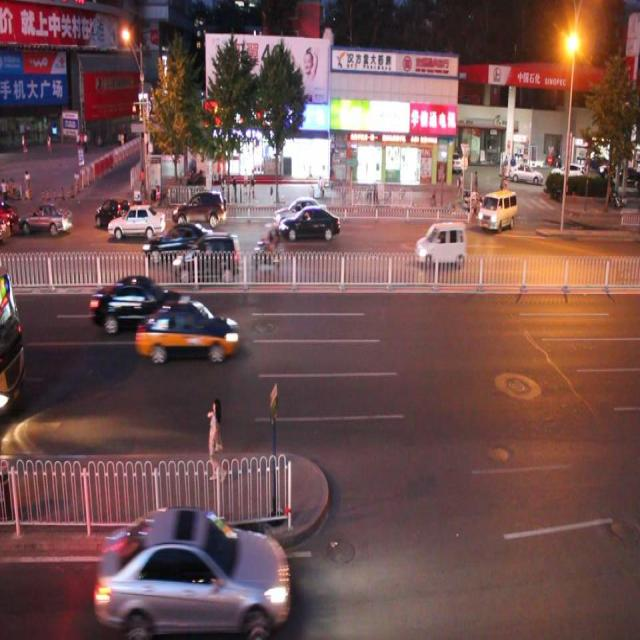car: (91, 499, 289, 640), (134, 300, 239, 364), (89, 271, 191, 332), (142, 220, 215, 266), (175, 231, 243, 277), (414, 219, 467, 266), (278, 205, 342, 241), (273, 193, 329, 234), (19, 199, 74, 240), (108, 202, 166, 240), (173, 188, 226, 229), (97, 193, 138, 228)
truck: (474, 186, 518, 234)
